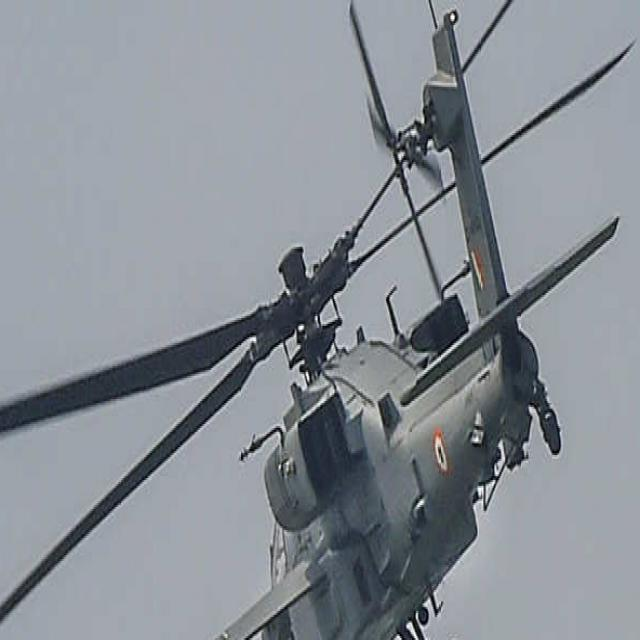helicopter: (1, 1, 638, 640)
